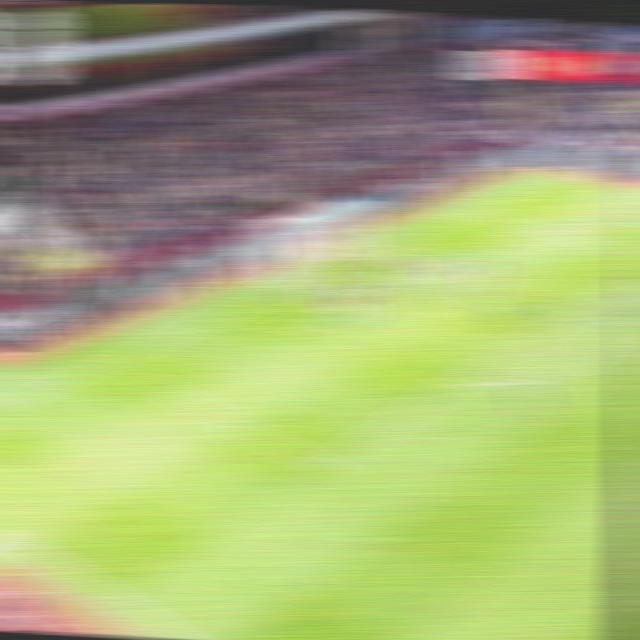bigarea_bottom_inner: (304, 450, 344, 478)
bigarea_bottom_outter: (92, 353, 127, 372)
bigarea_top_outter: (455, 202, 492, 218)
bottom_arc_area_intersection: (439, 371, 477, 394)
corner: (537, 168, 574, 182)
smallarea_bottom_inner: (281, 321, 317, 344)
smallarea_bottom_outter: (221, 297, 257, 317)
smallarea_top_inner: (436, 250, 472, 268)
smallarea_top_outter: (381, 232, 417, 250)
top_arc_area_intersection: (560, 297, 599, 320)
